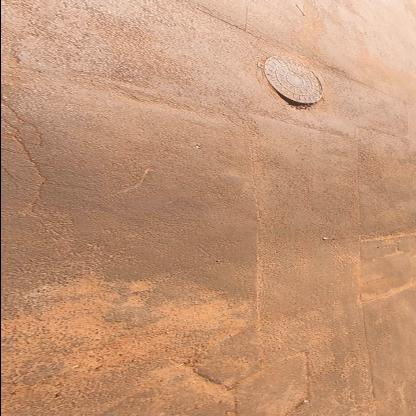manholes: (252, 54, 329, 112)
